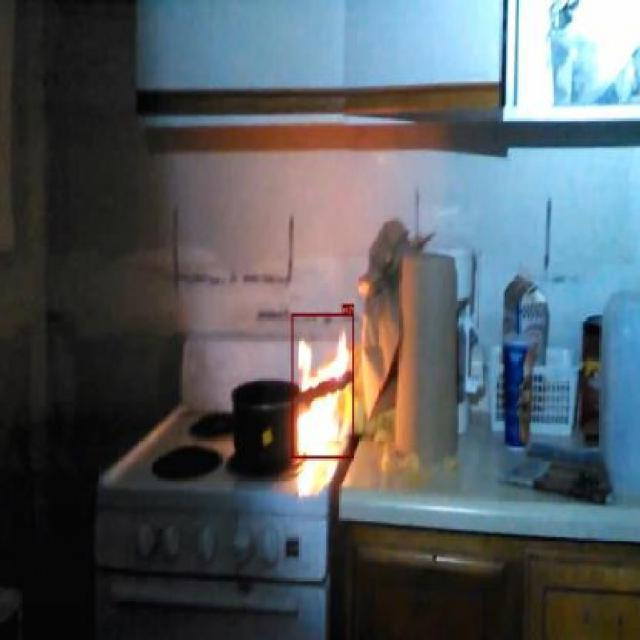Fire: (292, 313, 354, 458)
